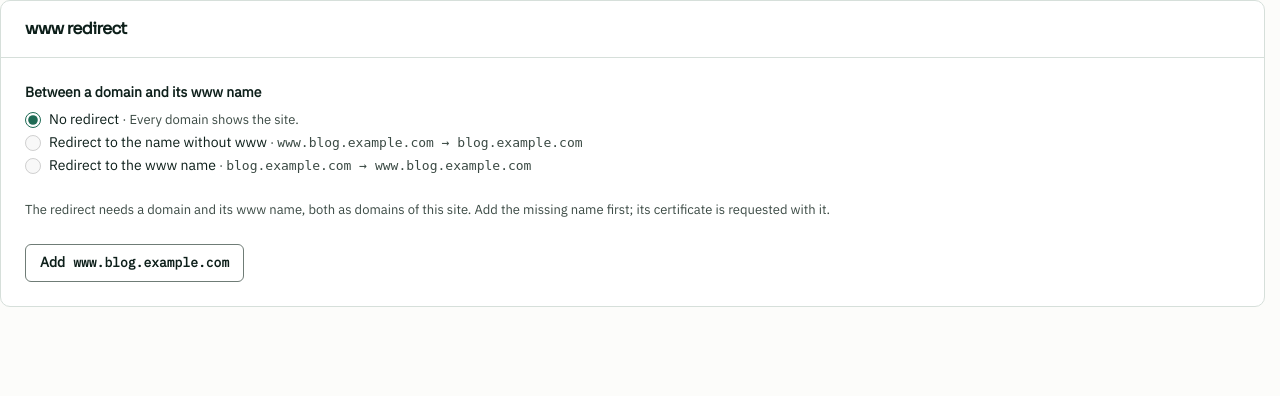
Test: www redirect › offers to add the missing name and keeps the modes off without a pair
The image size is (1280, 396).
Check: the radio button labelled "to the www name" is disabled, box x1=25 y1=158 x2=41 y2=174
Check: the radio button labelled "No redirect · Every domain shows the site." is checked, box x1=25 y1=112 x2=41 y2=128
Click the button "Add www.blog.example.com".
click(135, 262)  # box x1=25 y1=244 x2=244 y2=282
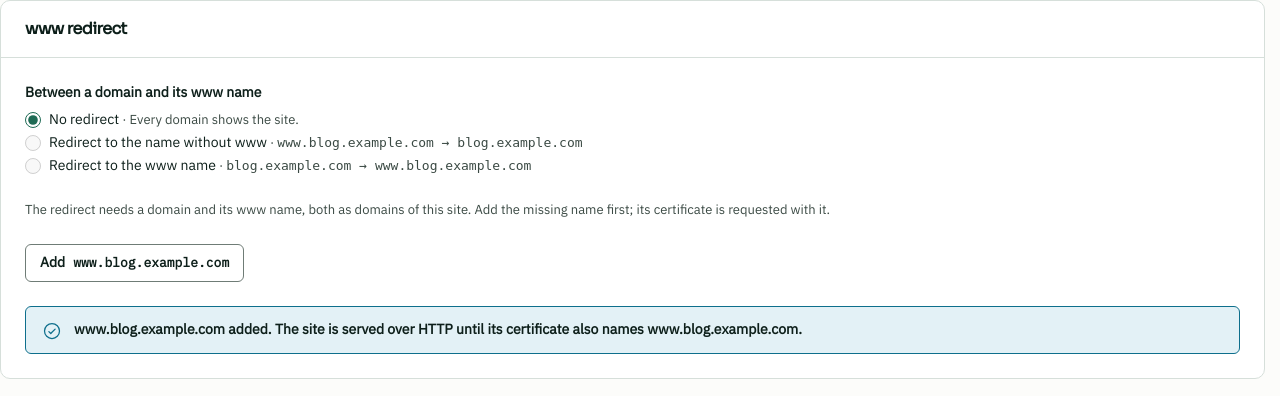
Check: the text "served over HTTP until its certificate also names www.blog.example.com" is shown, box x1=74 y1=320 x2=802 y2=338
